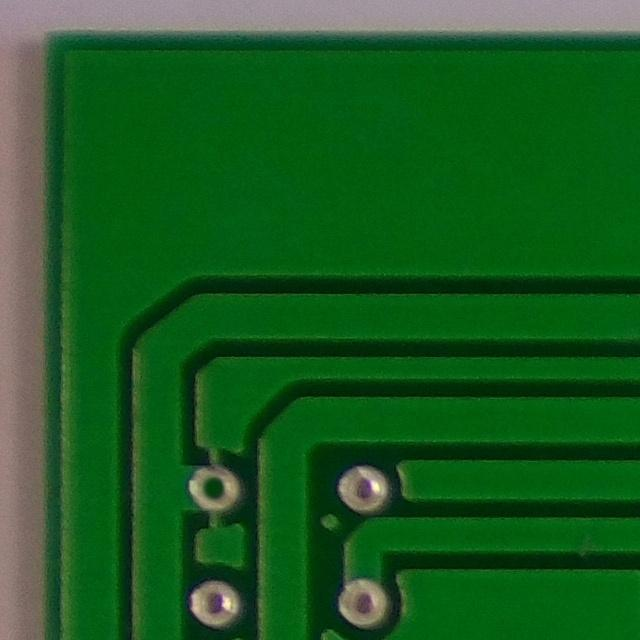missing_hole: (177, 453, 255, 524)
